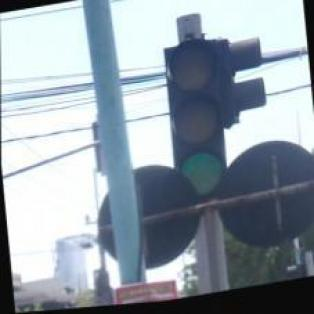Semaforo Verde: (166, 42, 234, 206)
